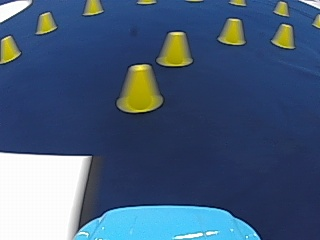cone: (117, 63, 162, 113), (157, 30, 192, 67), (217, 17, 245, 45), (271, 23, 295, 48), (0, 35, 20, 62), (35, 11, 57, 34), (82, 0, 101, 15), (273, 1, 288, 16)
